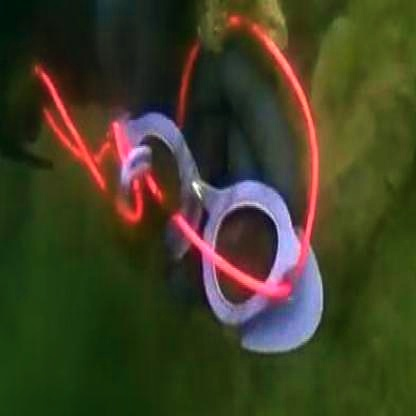sunglasses: (90, 60, 357, 378)
